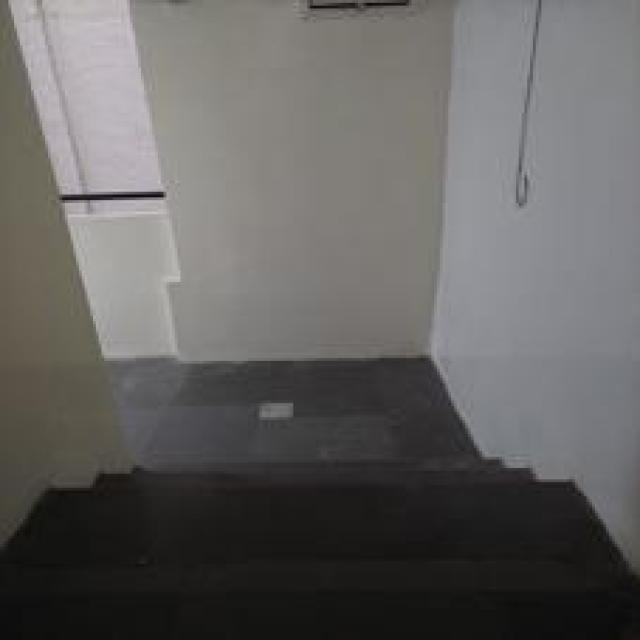downstair: (120, 421, 483, 559)
